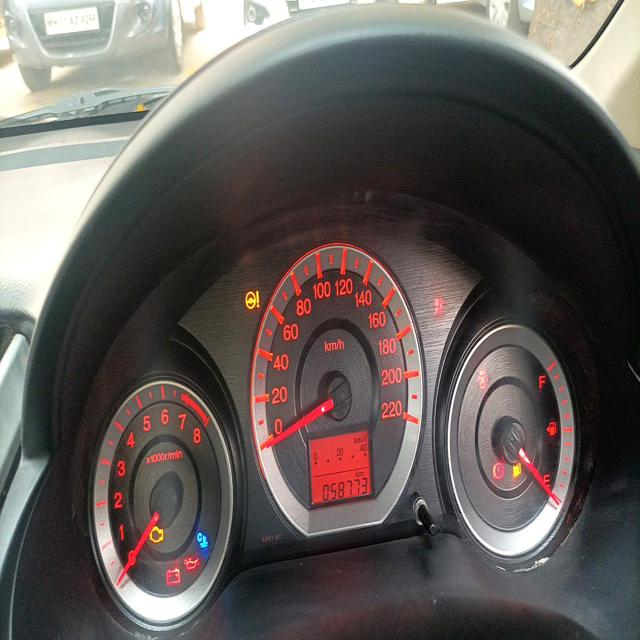odometer: (319, 474, 368, 504)
